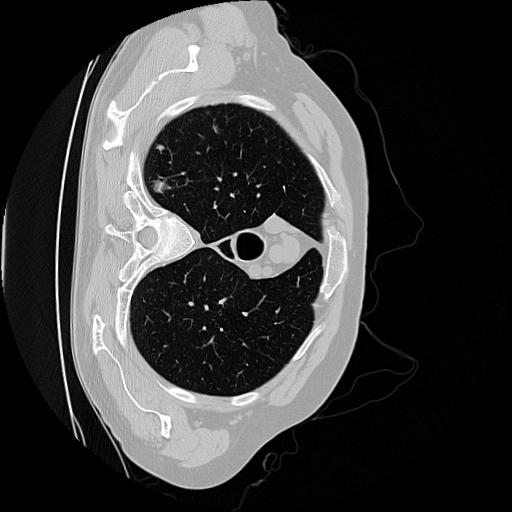nodule: (156, 143, 167, 154)
